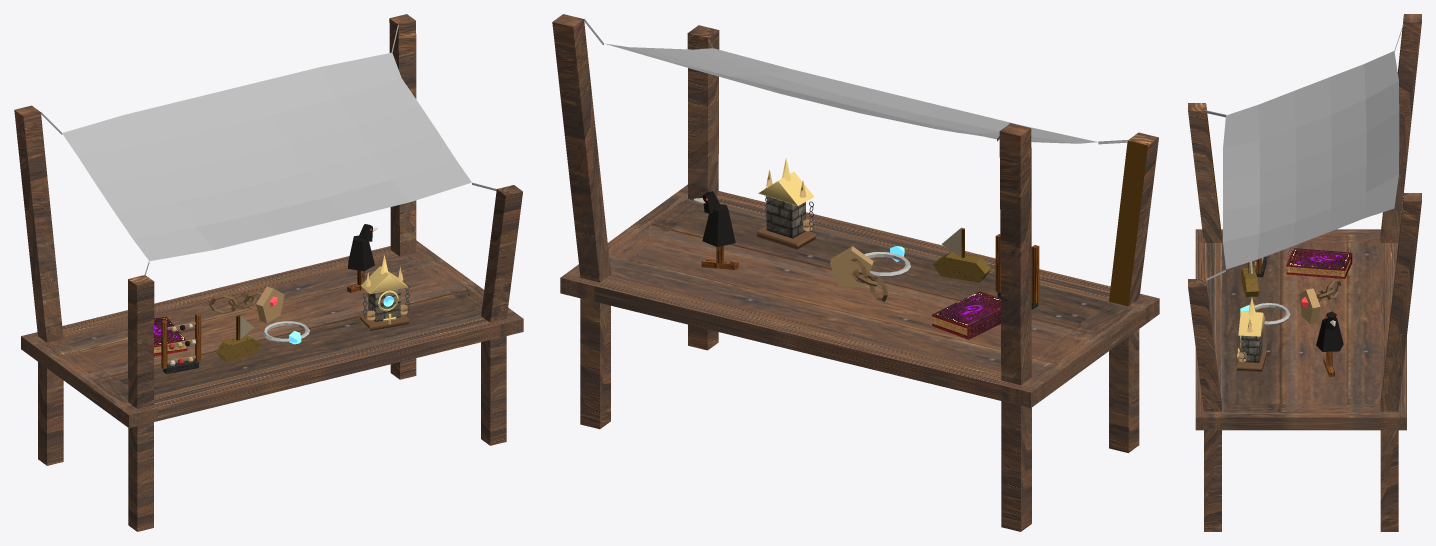
File: relic stall.glb
3 renders of one model, left to right at view 1: azimuth 30°, elevation 25°; view 2: azimuth 150°, elevation 25°; view 3: azimuth 270°, elevation 25°, orthographic. The views are drawn at different scales.
Visible parts, largest first — view 1: Cube; view 2: Cube; view 3: Cube.
Part boxes in pixels (x1=…): Cube: x1=14, y1=14, x2=523, y2=531; Cube: x1=552, y1=14, x2=1159, y2=531; Cube: x1=1188, y1=14, x2=1421, y2=531.
Bounding box in the file's own units: 1.9 × 1.58 × 0.9964.
Materials: 29 (8 with a texture image).
